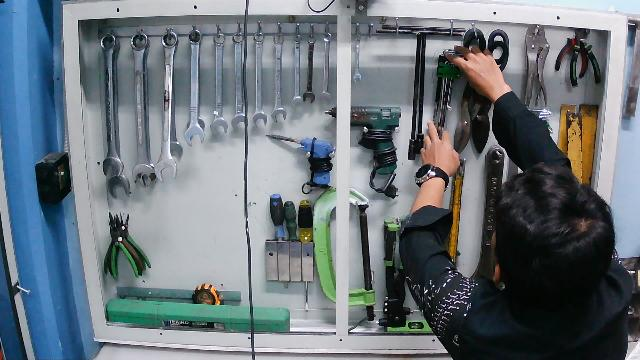kunci_l: (427, 43, 467, 168)
